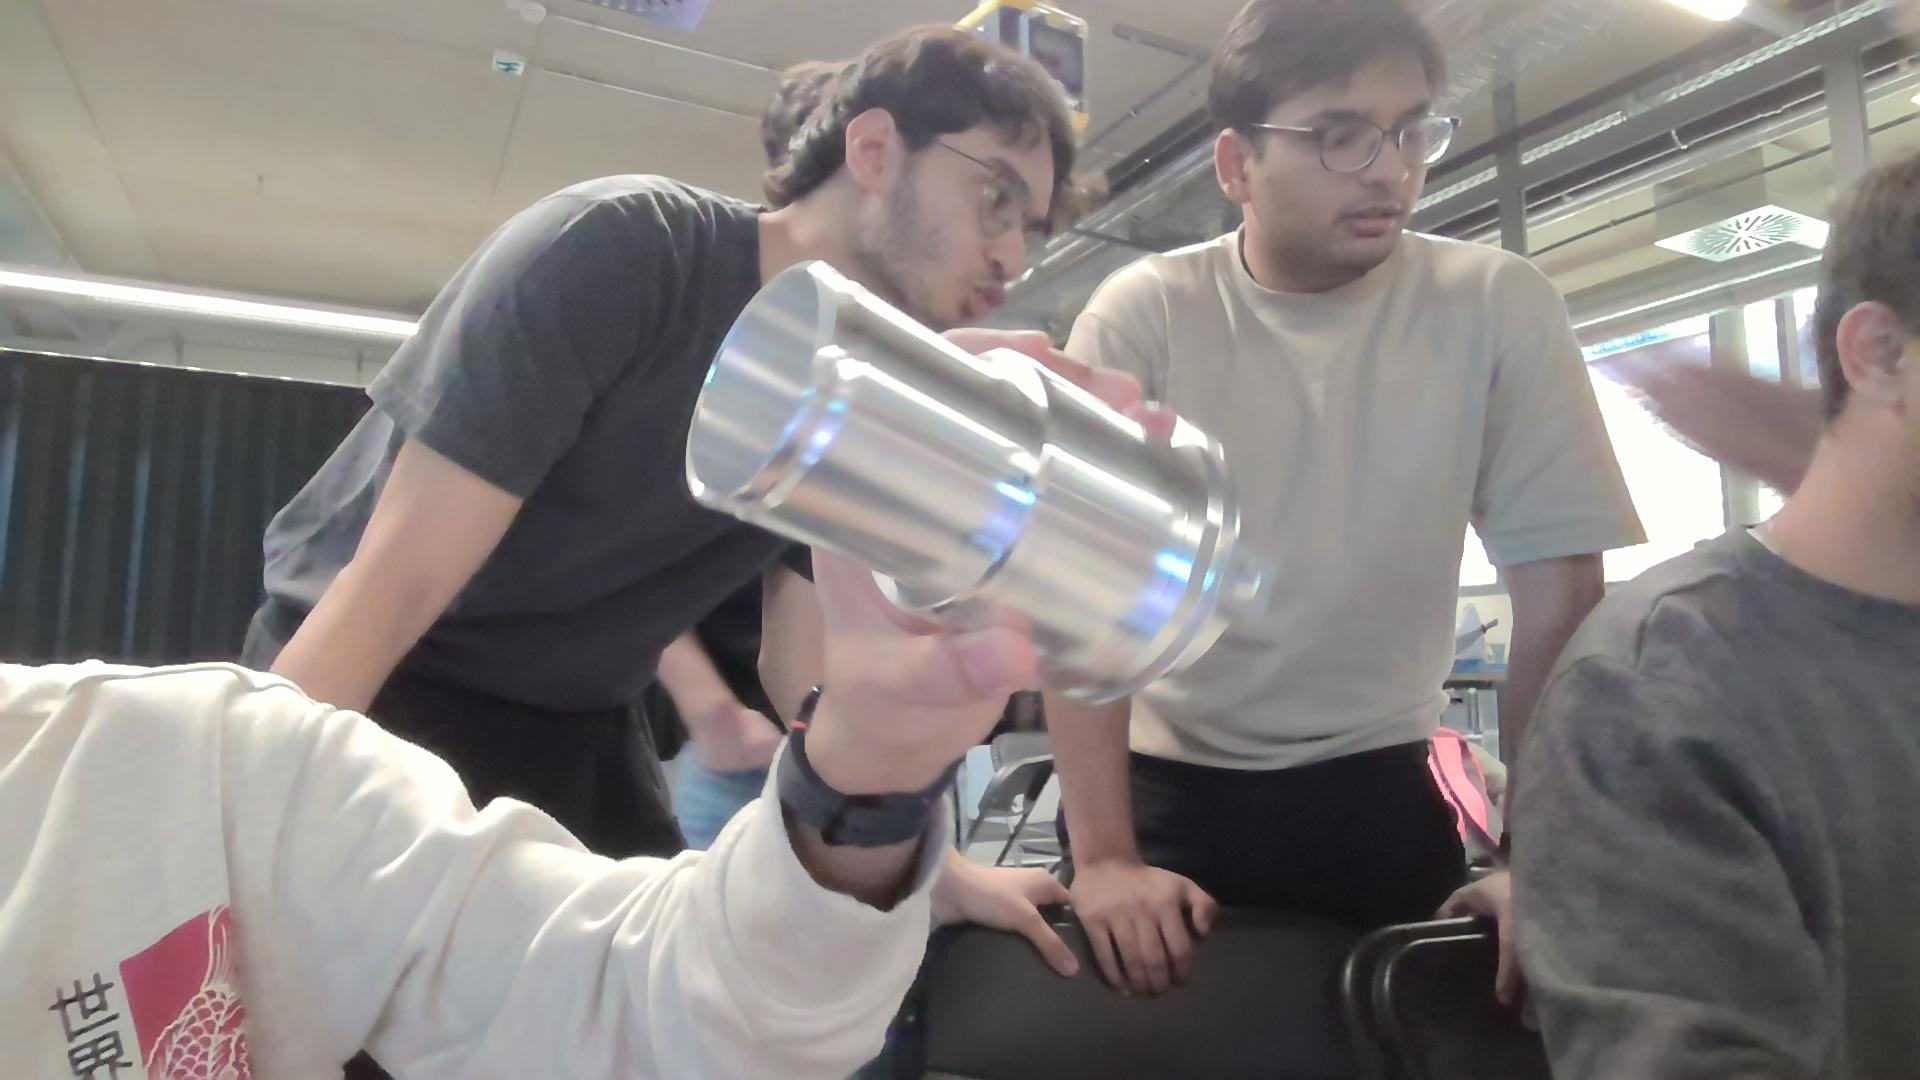objects: (682, 256, 1317, 721)
